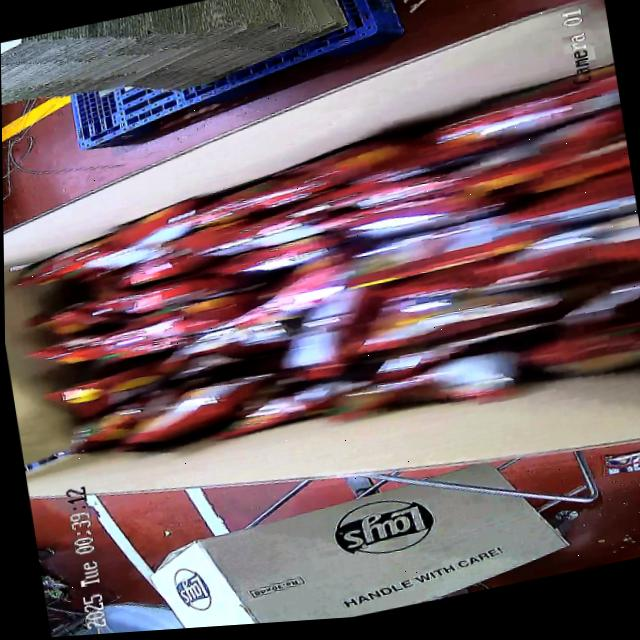MASALA: (2, 64, 640, 491)
